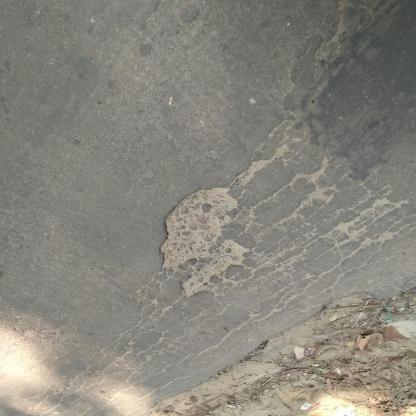pothole: (156, 187, 253, 300)
